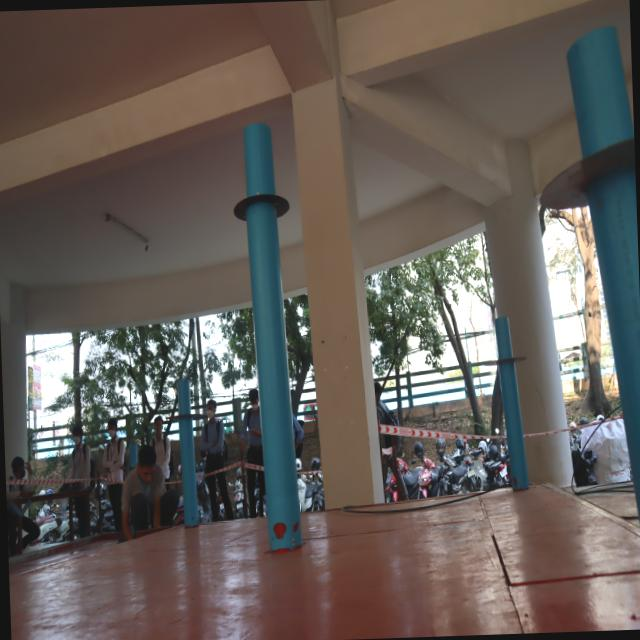pole: (527, 31, 638, 260), (223, 117, 299, 270), (164, 373, 208, 441), (484, 318, 526, 388)
